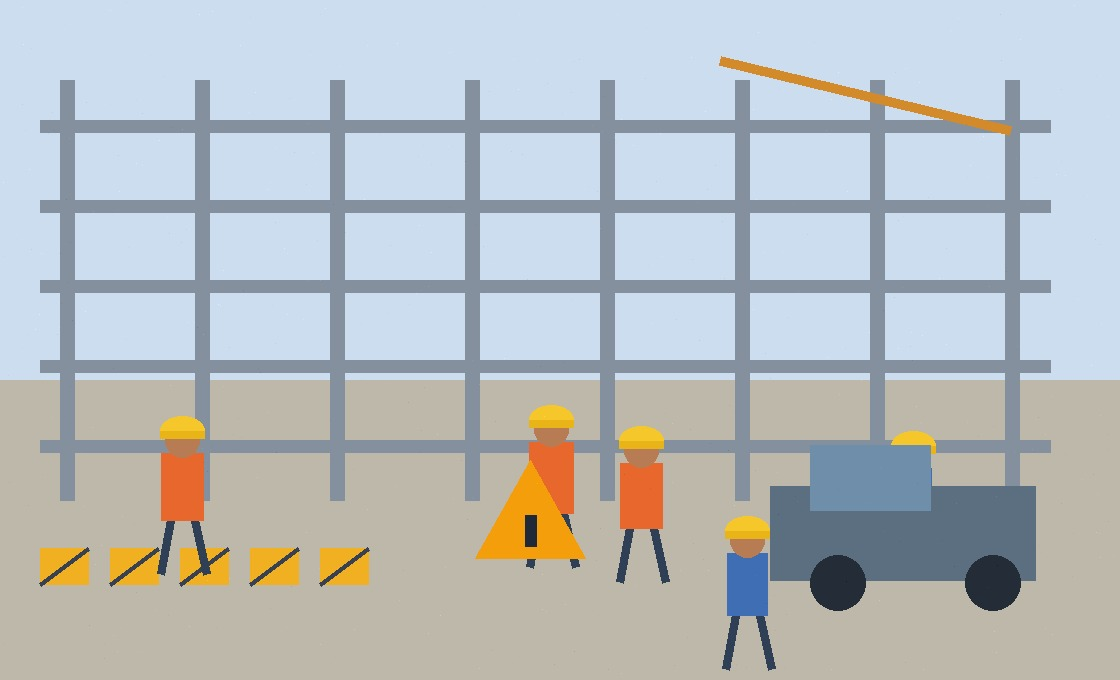helmet: (181, 350, 223, 384)
person: (166, 360, 228, 530)
vehicle: (770, 445, 1035, 595)
vest: (156, 395, 228, 483)
warning_sign: (475, 458, 585, 558)
